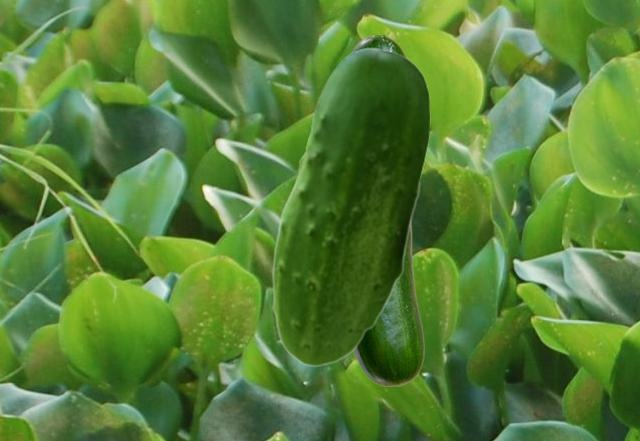cucumber: (272, 47, 429, 366), (350, 35, 423, 385)
